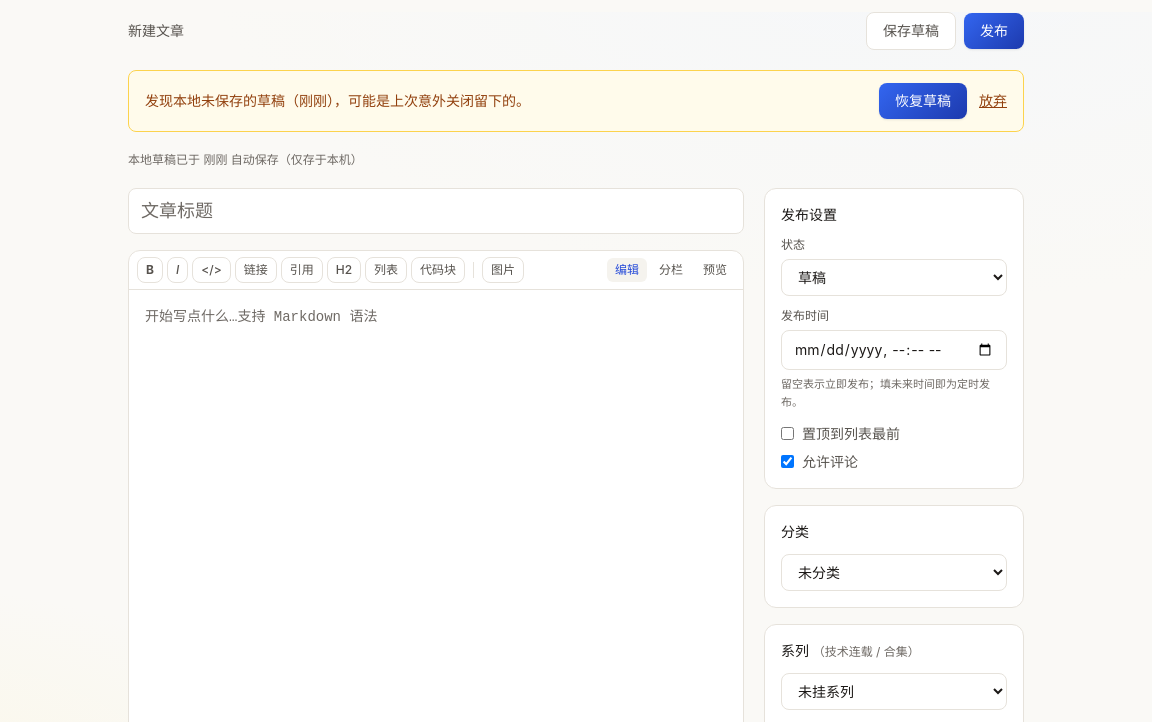
Scenario: ArticleEditView · 本地草稿 › 新建页发现本地草稿时给出恢复横幅，点「恢复草稿」把内容填回表单
The width and height of the screenshot is (1152, 722).
Click the button "恢复草稿" at [923, 101], box x1=879 y1=83 x2=967 y2=119
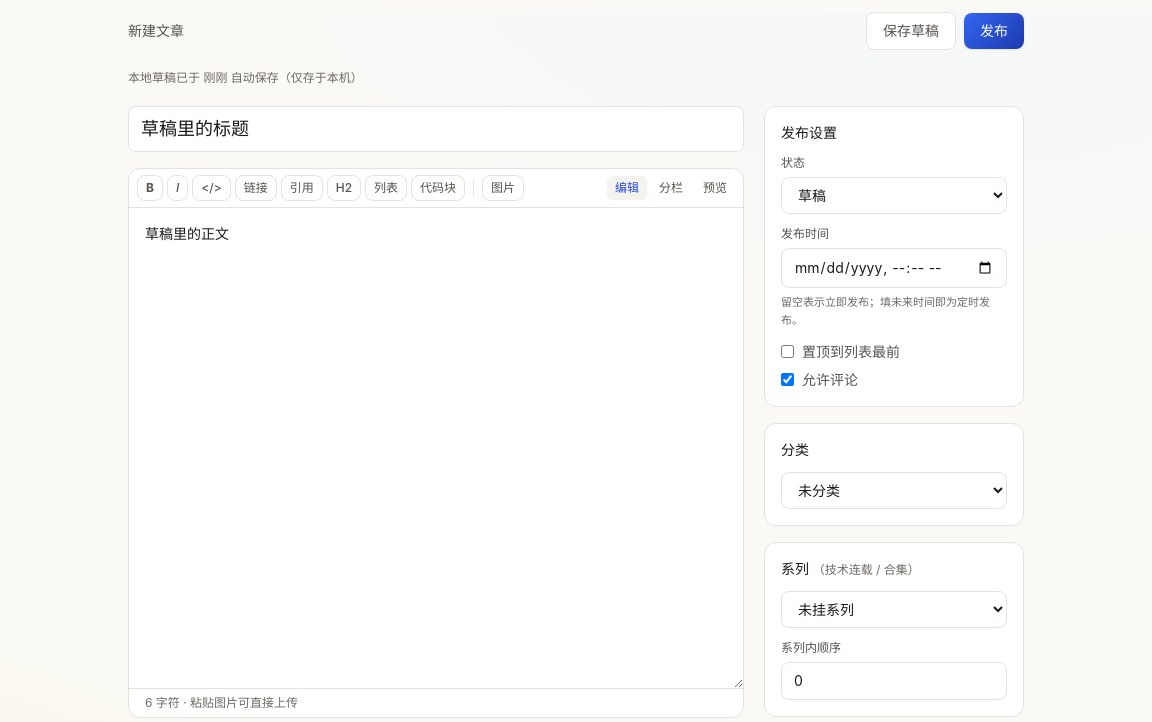
Expected: the text box named "正文（Markdown）" holds "草稿里的正文", x1=129 y1=208 x2=743 y2=688
Expected: the text "发现本地未保存的草稿" is gone
